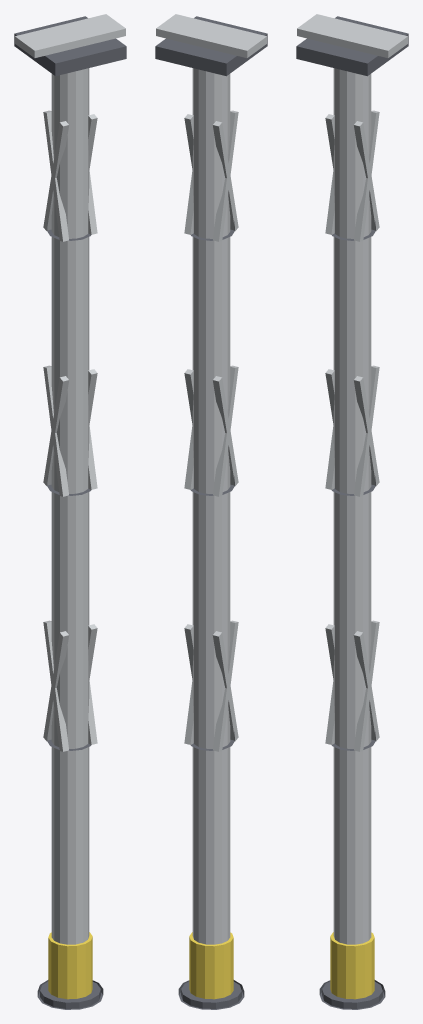
Rendered from theme-park-rides-and-coasters-theme-park-rides-and-coa-8ef60c16__28638.glb.
The picture shows the model from 3 angles, left to right: view 1: azimuth 30°, elevation 25°; view 2: azimuth 150°, elevation 25°; view 3: azimuth 330°, elevation 25°; orthographic projection.
Parts seen in each view (by area): view 1: theme-park-rides-and-coasters-support-column-9m; view 2: theme-park-rides-and-coasters-support-column-9m; view 3: theme-park-rides-and-coasters-support-column-9m.
Part boxes in pixels (x1,y1,x2,y2): theme-park-rides-and-coasters-support-column-9m: (14, 14, 126, 1009); theme-park-rides-and-coasters-support-column-9m: (155, 14, 267, 1009); theme-park-rides-and-coasters-support-column-9m: (296, 14, 408, 1009).
Bounding box in the file's own units: 0.8997 × 9.07 × 0.6999.
